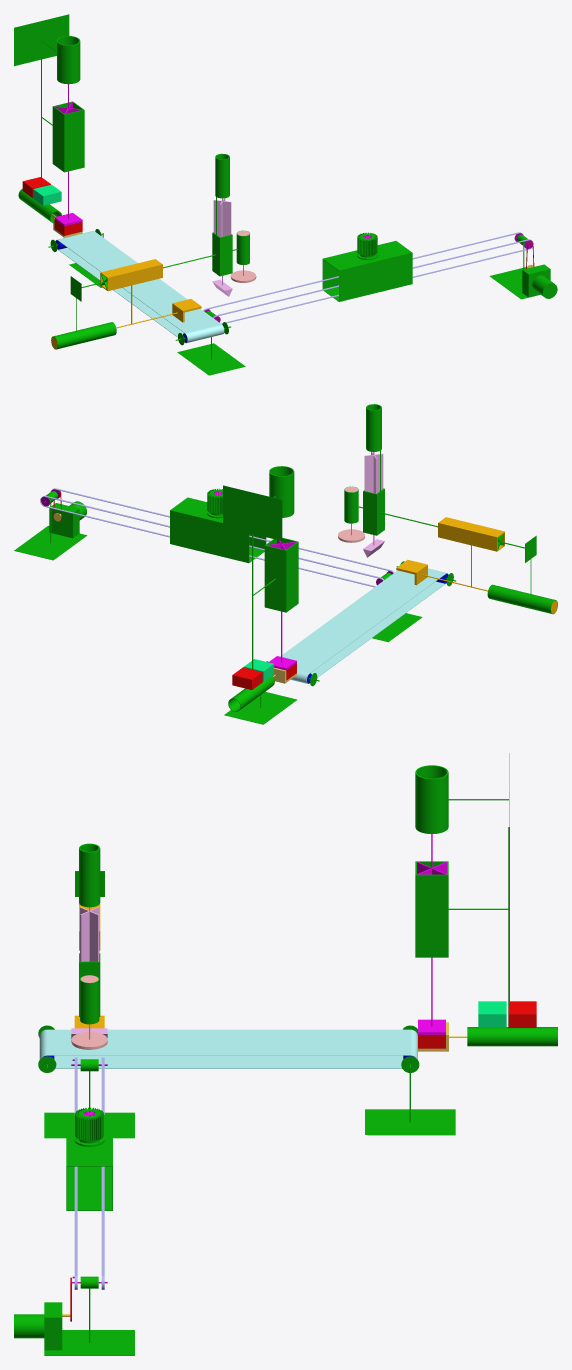
Rendered from ecolpap.glb.
3 renders of one model, top to bottom at view 1: azimuth 30°, elevation 25°; view 2: azimuth 150°, elevation 25°; view 3: azimuth 270°, elevation 25°, orthographic. The views are drawn at different scales.
Visible parts, largest first — view 1: tapis à rouleaux-2, tunnel-1, glissière compactage-2, bati ecolpap1-1, glissière guillotine-1, tapis à chaines-1, glissière poussoir-1, bati chaine-2, corps vérin-2, motoréduct tapis chaine-1, corps vérin poussoir-1, coulisseau guillotine-1 (+6 smaller); view 2: tapis à rouleaux-2, tunnel-1, glissière compactage-2, bati ecolpap1-1, glissière guillotine-1, glissière poussoir-1, tapis à chaines-1, bati chaine-1, bati rouleau-1, corps vérin-2, corps vérin poussoir-1, motoréduct tapis chaine-1 (+8 smaller); view 3: tapis à rouleaux-2, glissière compactage-2, tunnel-1, glissière guillotine-1, bati rouleau-1, corps vérin-2, bati chaine-1, corps vérin sabot-1, motoréduct tapis chaine-1, tapis à chaines-1, bati chaine-2, coulisseau guillotine-1 (+4 smaller).
Boxes of the visible parts, <box> form: tapis à rouleaux-2: <box>55,231,224,343</box>; tunnel-1: <box>322,241,412,301</box>; glissière compactage-2: <box>41,59,84,186</box>; bati ecolpap1-1: <box>14,14,69,66</box>; glissière guillotine-1: <box>212,153,249,276</box>; tapis à chaines-1: <box>203,232,533,324</box>; glissière poussoir-1: <box>51,259,168,348</box>; bati chaine-2: <box>177,337,245,375</box>; corps vérin-2: <box>57,36,80,84</box>; motoréduct tapis chaine-1: <box>522,264,557,298</box>; corps vérin poussoir-1: <box>51,322,116,349</box>; coulisseau guillotine-1: <box>212,198,232,296</box>; tapis à rouleaux-2: <box>280,568,448,683</box>; tunnel-1: <box>170,497,266,563</box>; glissière compactage-2: <box>252,534,298,669</box>; bati ecolpap1-1: <box>223,485,282,540</box>; glissière guillotine-1: <box>344,404,384,535</box>; glissière poussoir-1: <box>432,517,557,613</box>; tapis à chaines-1: <box>40,488,394,587</box>; bati chaine-1: <box>14,503,87,560</box>; bati rouleau-1: <box>224,691,297,724</box>; corps vérin-2: <box>269,466,294,517</box>; corps vérin poussoir-1: <box>487,584,557,614</box>; motoréduct tapis chaine-1: <box>49,501,86,538</box>; tapis à rouleaux-2: <box>39,1029,417,1068</box>; glissière compactage-2: <box>415,827,509,1028</box>; tunnel-1: <box>66,1115,112,1210</box>; glissière guillotine-1: <box>79,843,100,1024</box>; bati rouleau-1: <box>365,1067,455,1135</box>; corps vérin-2: <box>415,765,448,833</box>; bati chaine-1: <box>44,1288,134,1355</box>; corps vérin sabot-1: <box>467,1027,557,1046</box>; motoréduct tapis chaine-1: <box>14,1302,62,1350</box>; tapis à chaines-1: <box>74,1057,104,1289</box>; bati chaine-2: <box>44,1071,134,1138</box>; coulisseau guillotine-1: <box>71,907,107,1038</box>.
Bounding box in the file's own units: 0.2655 × 0.123 × 0.1798.
